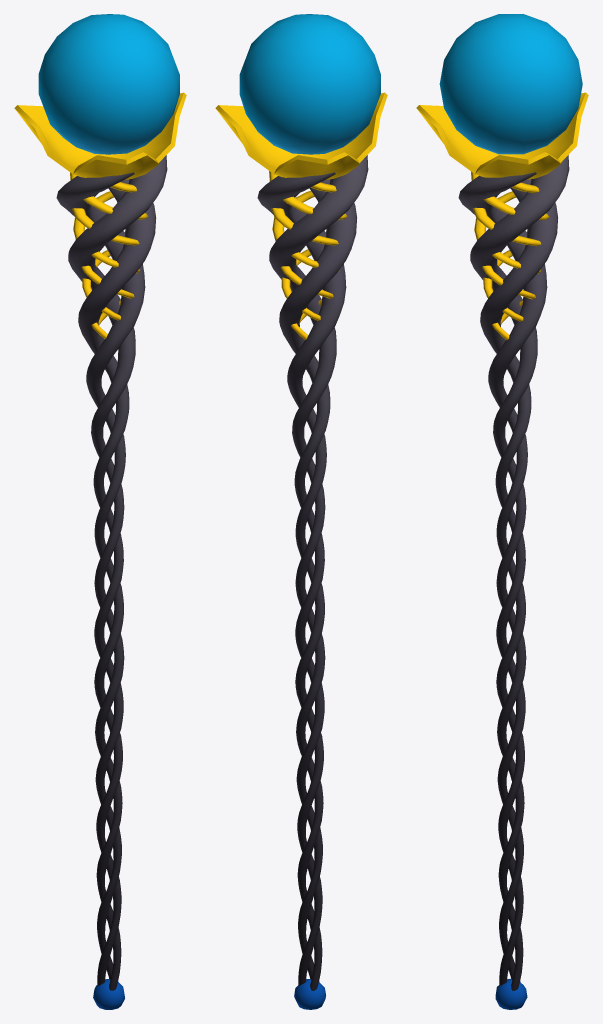
File: waterWizard_staff.fbx
The picture shows the model from 3 angles, left to right: view 1: azimuth 30°, elevation 25°; view 2: azimuth 150°, elevation 25°; view 3: azimuth 270°, elevation 25°; orthographic projection.
Visible parts, largest first — view 1: Sphere003; view 2: Sphere003; view 3: Sphere003.
Boxes of the visible parts, x1,y1,x2,y2 form: Sphere003: (14, 14, 186, 1009); Sphere003: (215, 14, 387, 1009); Sphere003: (416, 14, 588, 1009).
Size of the model in its own units: 0.1294 by 0.8365 by 0.1321.
Materials: 1 (1 with a texture image).
